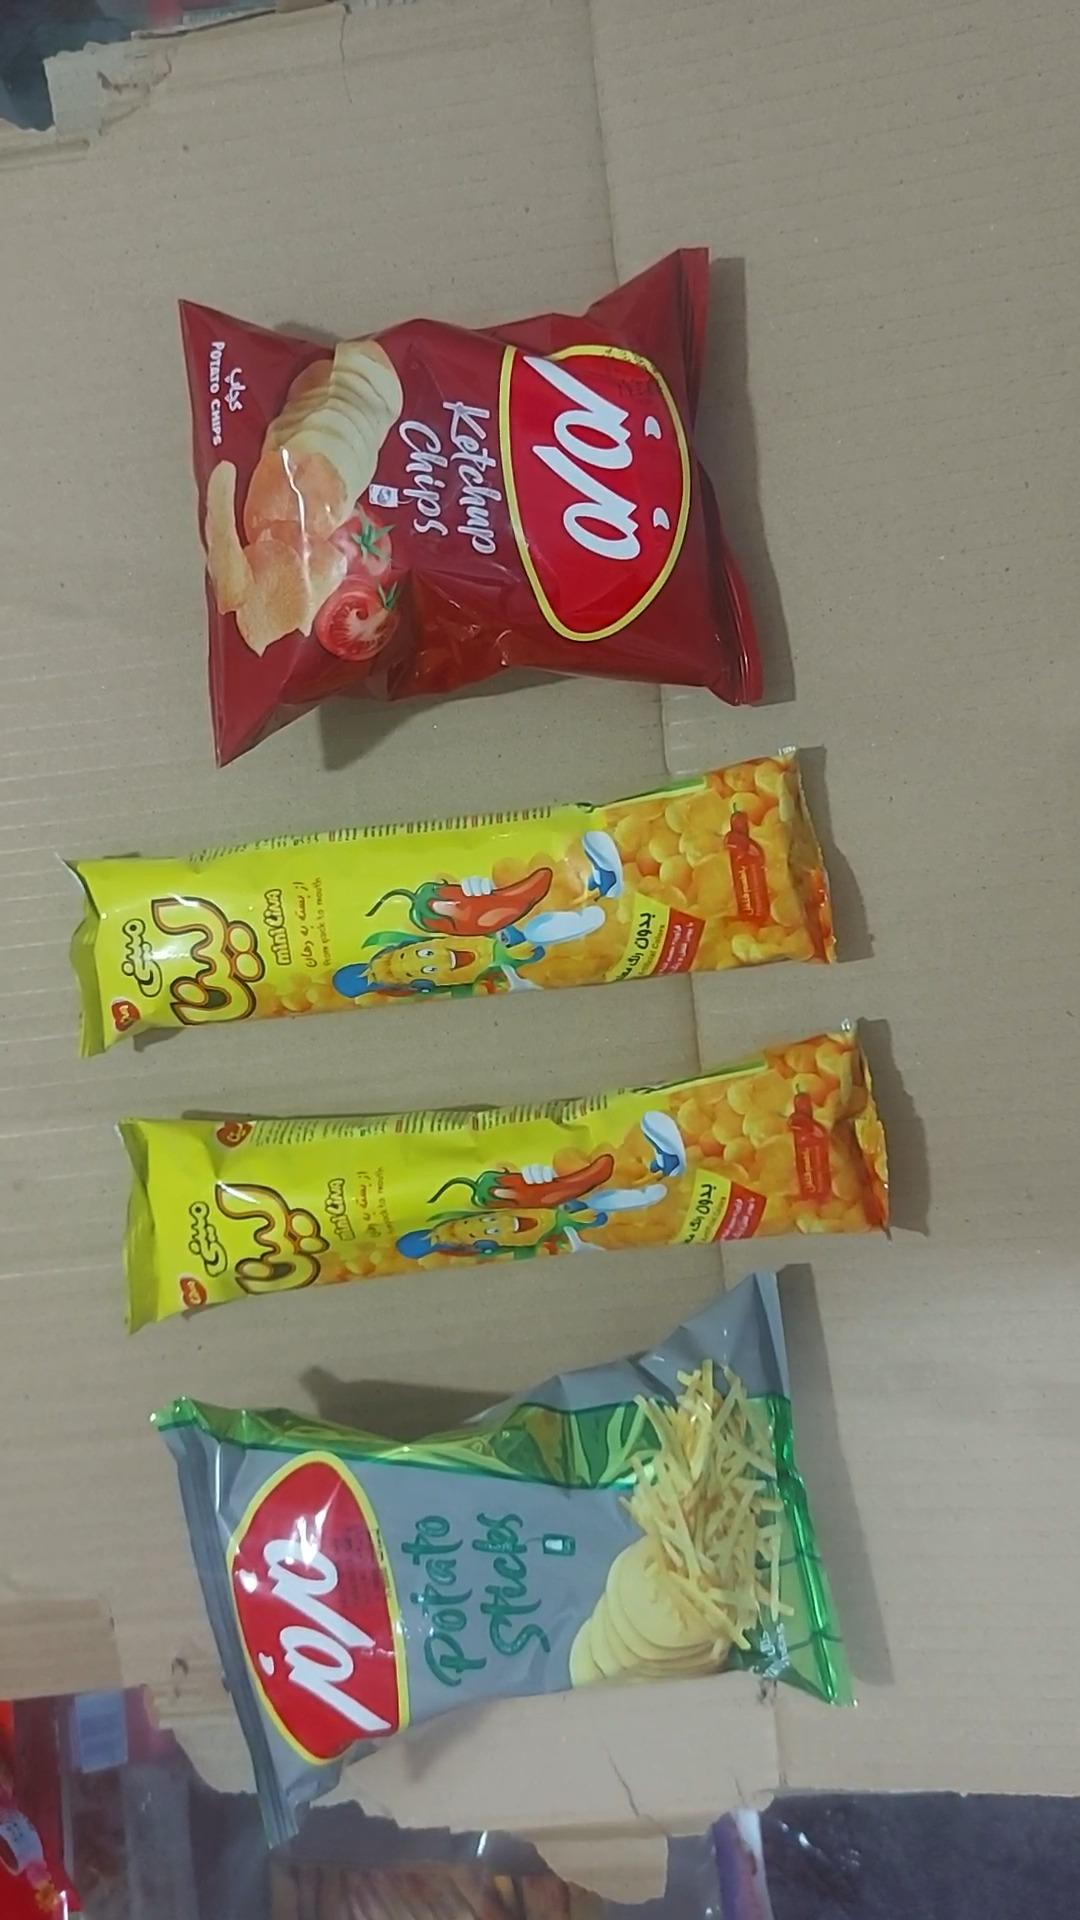Maz Maz ketchup chips: (179, 249, 762, 765)
Maz Maz potato sticks: (154, 1273, 851, 1844)
Mini Lina: (69, 752, 836, 1056), (120, 1029, 889, 1331)
